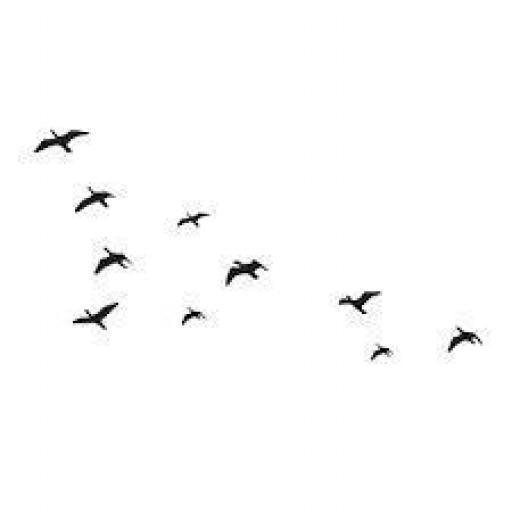bird: (33, 128, 91, 155), (73, 302, 119, 331), (226, 259, 268, 286), (75, 186, 116, 213), (94, 247, 135, 273), (340, 290, 381, 315), (448, 326, 483, 351), (177, 211, 210, 228), (181, 306, 206, 327), (372, 343, 393, 360)
